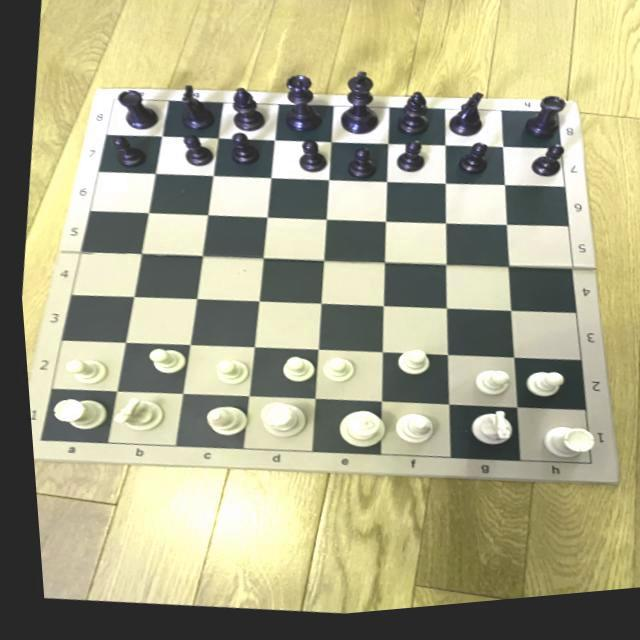chess-table-corners: (566, 463, 594, 481), (25, 432, 45, 448), (104, 98, 125, 111)
